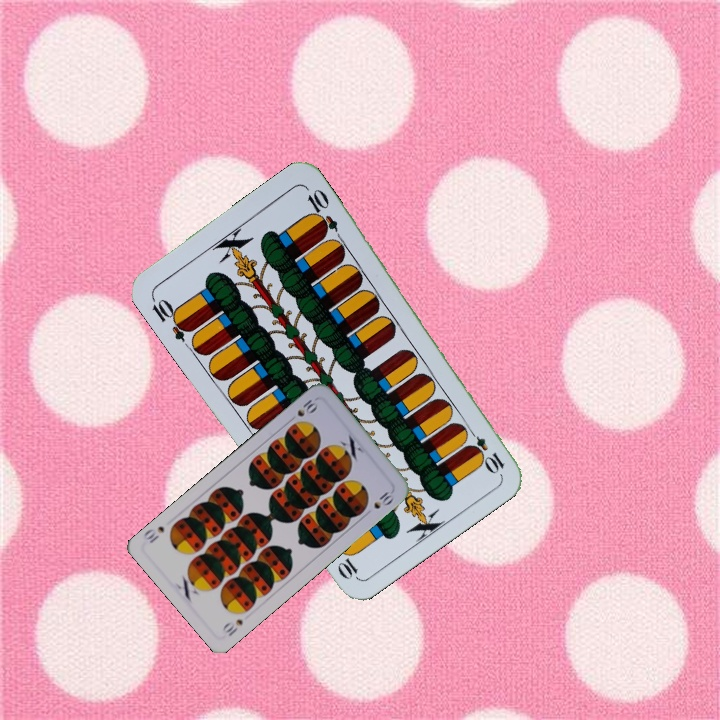E10: (147, 292, 195, 344), (462, 423, 507, 476)
S10: (285, 395, 321, 425), (218, 615, 246, 639)
